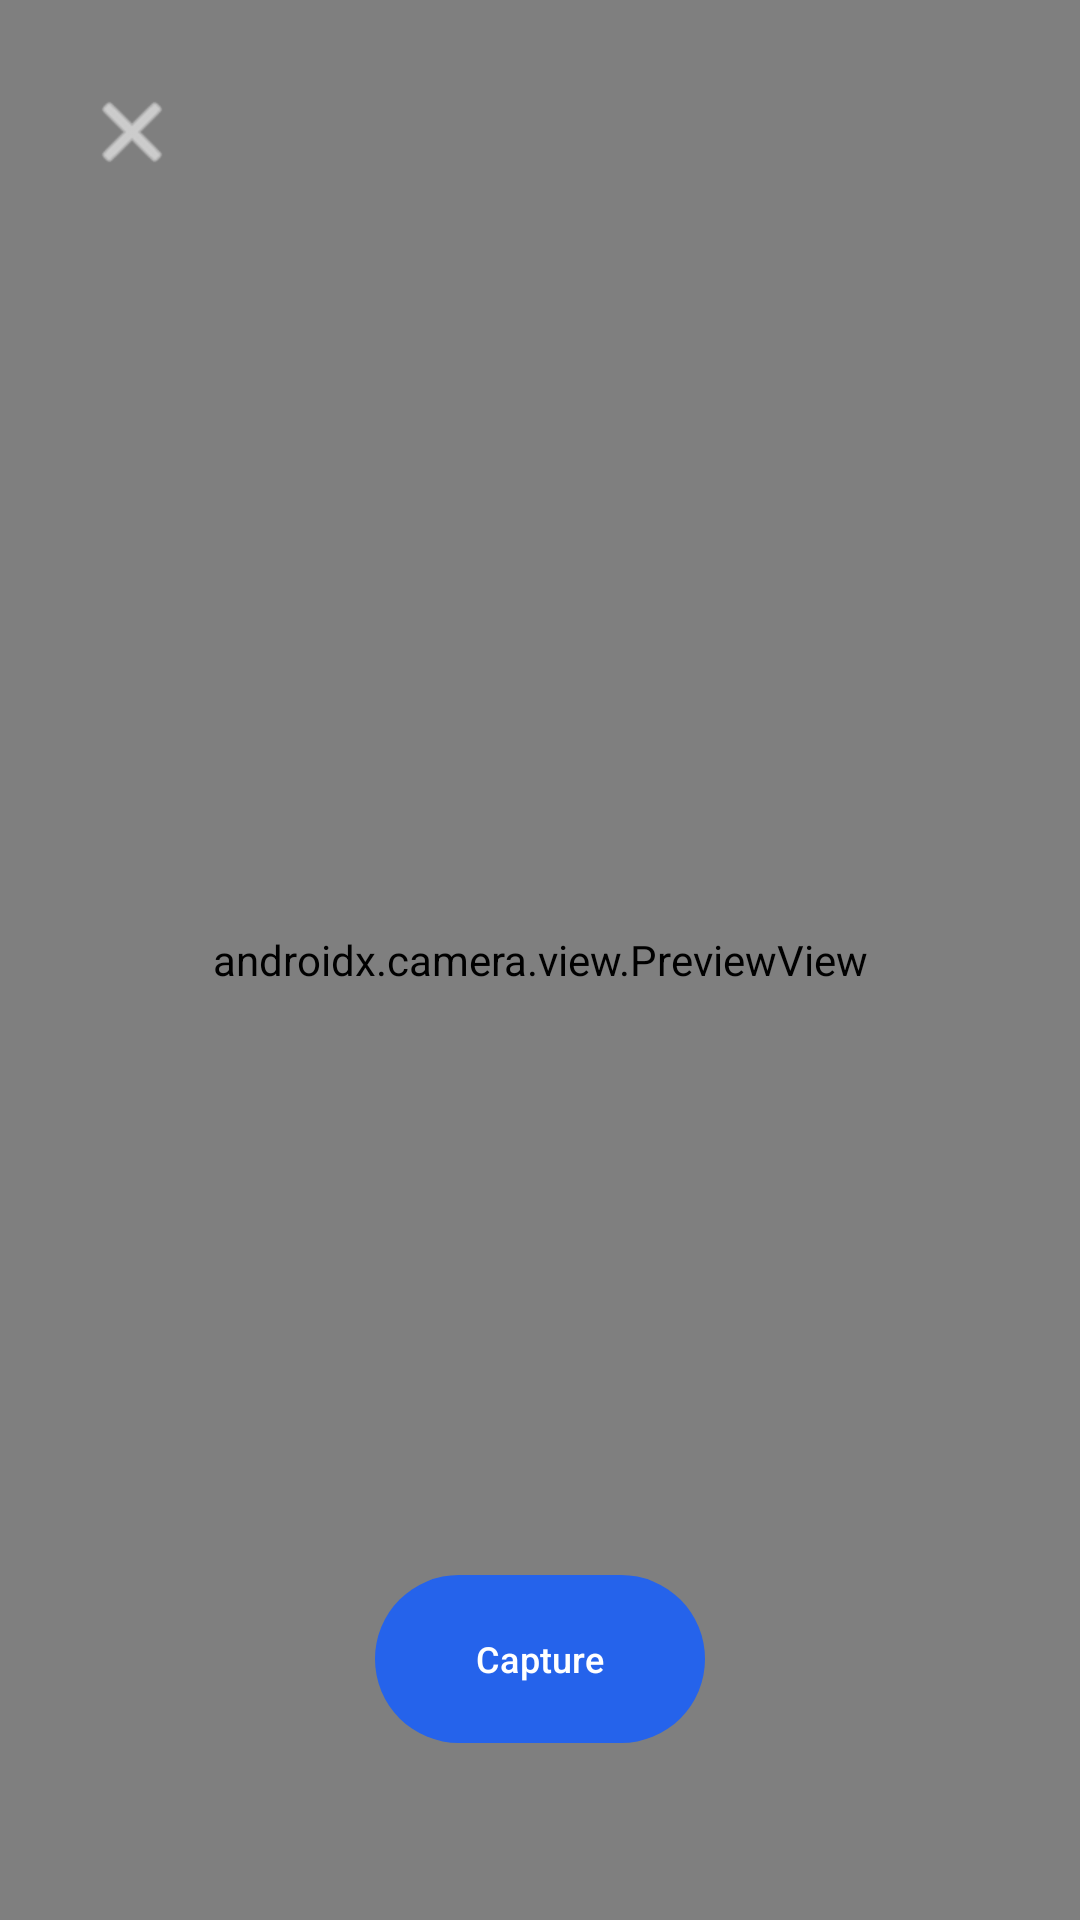

Icon bounding boxes for this 1080 × 1920 phone screenshot, format (x1, y1, x2, y2):
Close camera: (102, 102, 162, 162)
